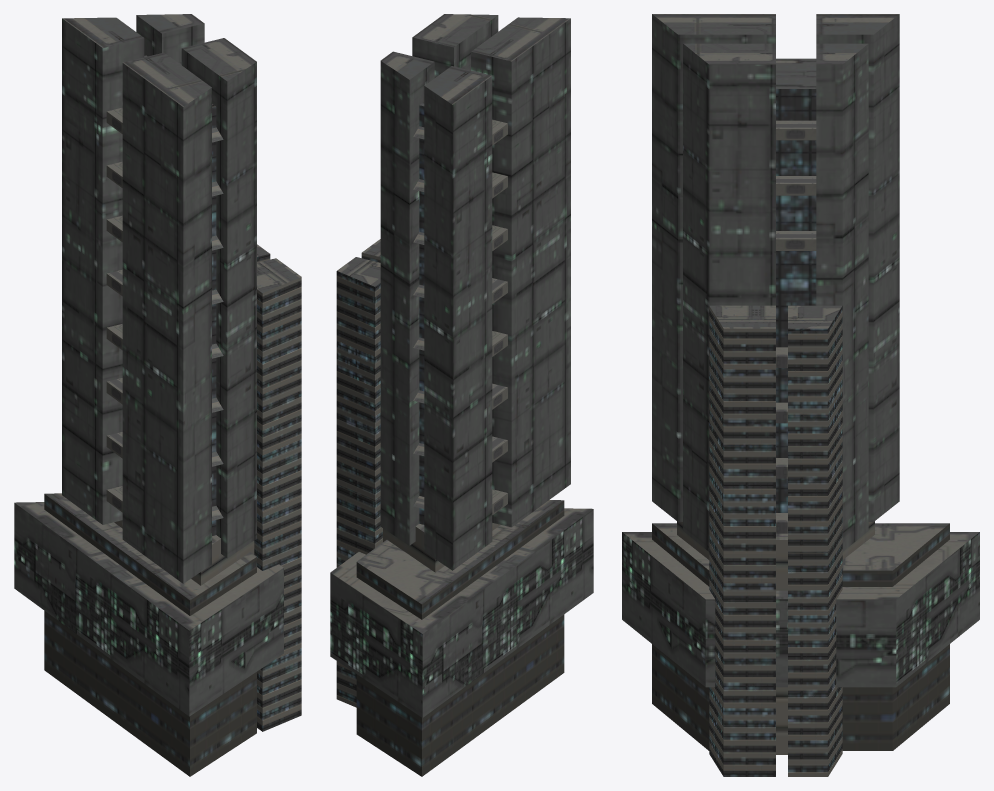
The model's file is Skyscraper_distance_5.gltf.
The picture shows the model from 3 angles, left to right: view 1: azimuth 30°, elevation 25°; view 2: azimuth 150°, elevation 25°; view 3: azimuth 270°, elevation 25°; orthographic projection. The views are drawn at different scales.
Visible parts, largest first — view 1: Skyscraper_distance_5; view 2: Skyscraper_distance_5; view 3: Skyscraper_distance_5.
Boxes of the visible parts, box(x1,y1,x2,y2) form: Skyscraper_distance_5: box(14, 14, 301, 776); Skyscraper_distance_5: box(330, 14, 593, 776); Skyscraper_distance_5: box(622, 14, 979, 776).
Size of the model in its own units: 34.26 by 136 by 64.1.
1 material, 1 textured.
